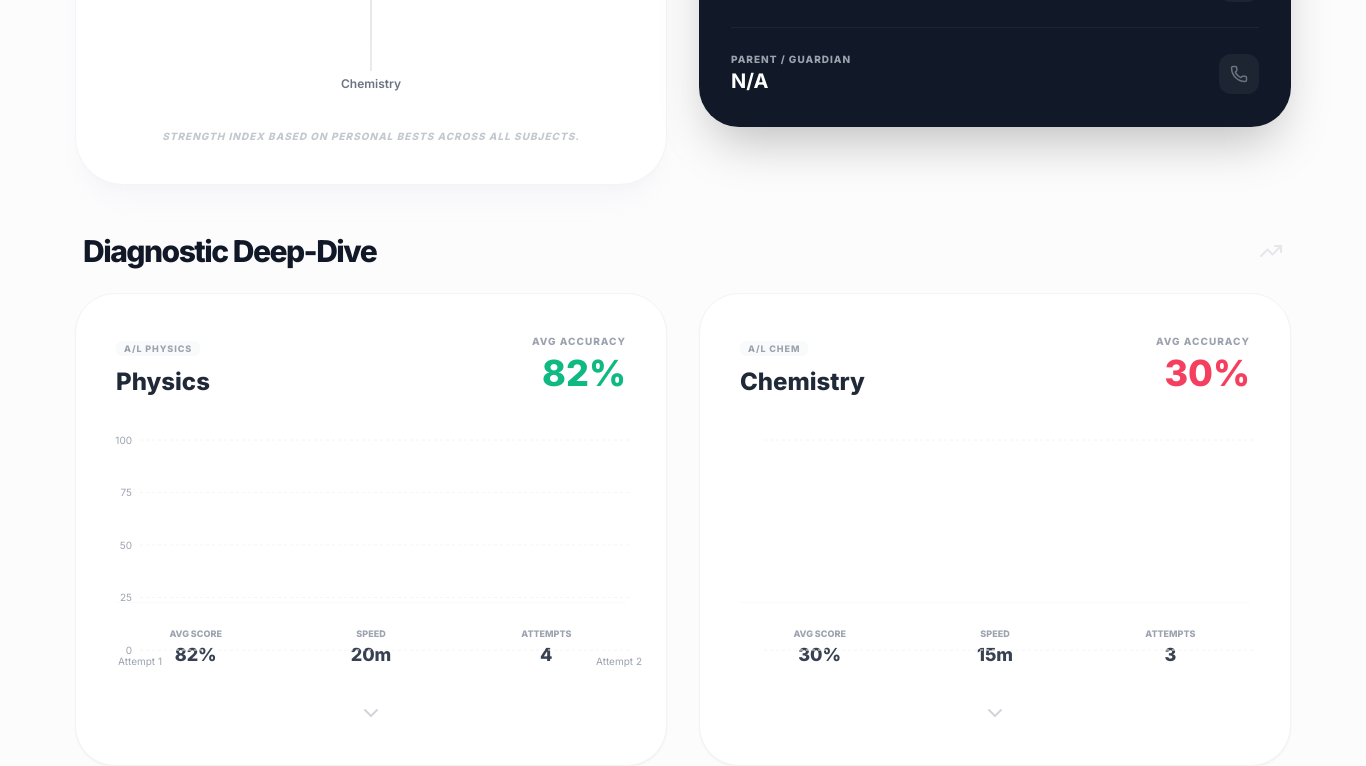
Test: Student progress (admin) › expands a subject to list its exams
(page scrolled)
Step 1. Click the heading "Physics" → click(163, 382), box [116,366,210,398]
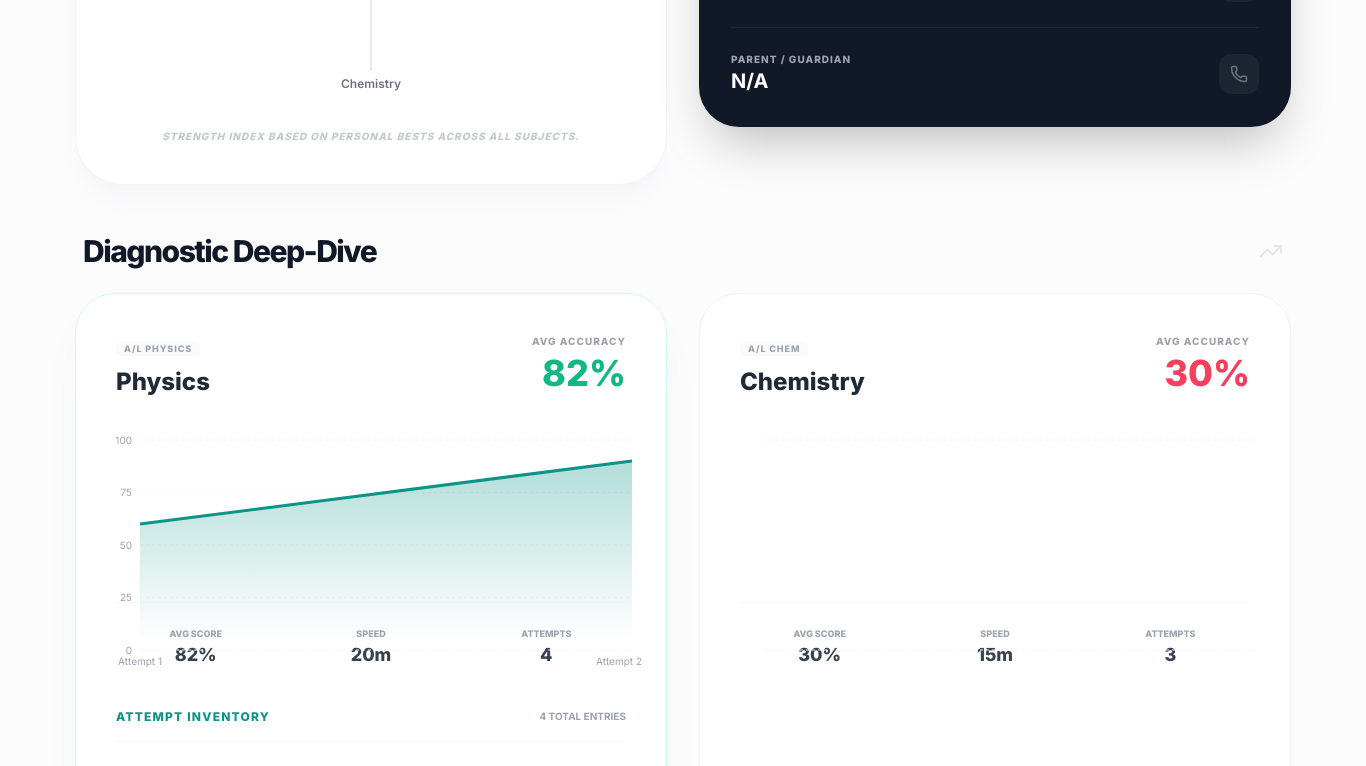
Now the heading "Attempt Inventory" is shown, box [116,708,270,724]
Now the text "4 total entries" is shown, box [540,709,626,724]
Step 2. Click the heading "Physics" → click(163, 382), box [116,366,210,398]
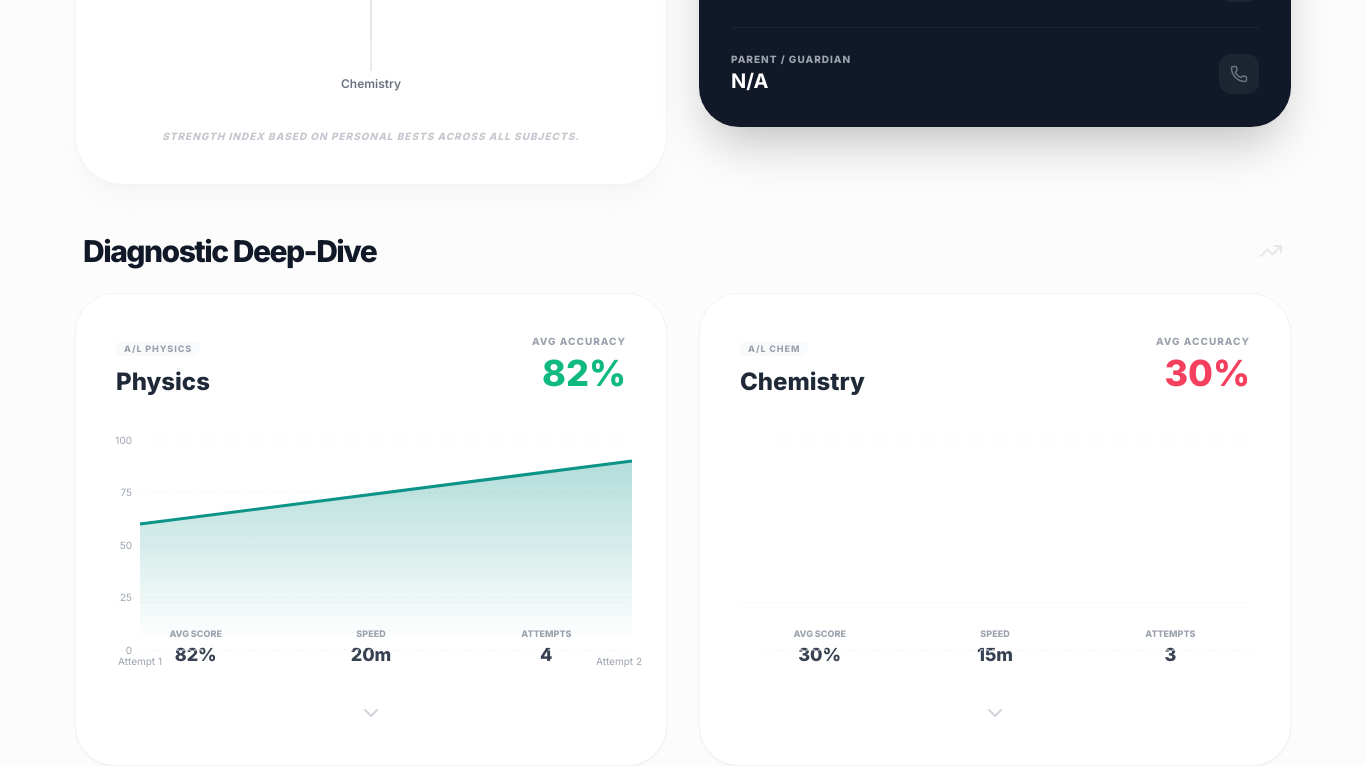
Now the heading "Attempt Inventory" is gone
